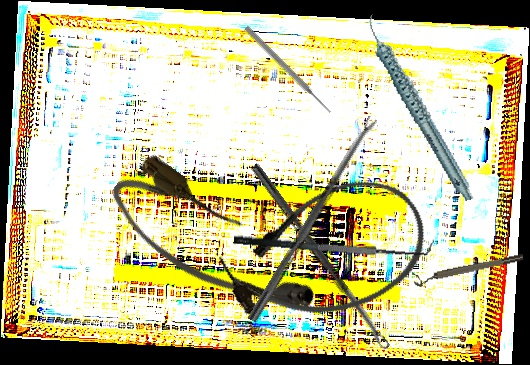Cannula: (99, 147, 327, 345), (207, 160, 444, 347)
Fixation Ring: (412, 251, 525, 289)
Handpiece: (364, 1, 475, 214)
Pusher: (242, 24, 334, 116)
Spatula Surgical: (233, 218, 434, 267)
Surgical Spoon: (247, 115, 379, 324), (249, 162, 391, 352)
